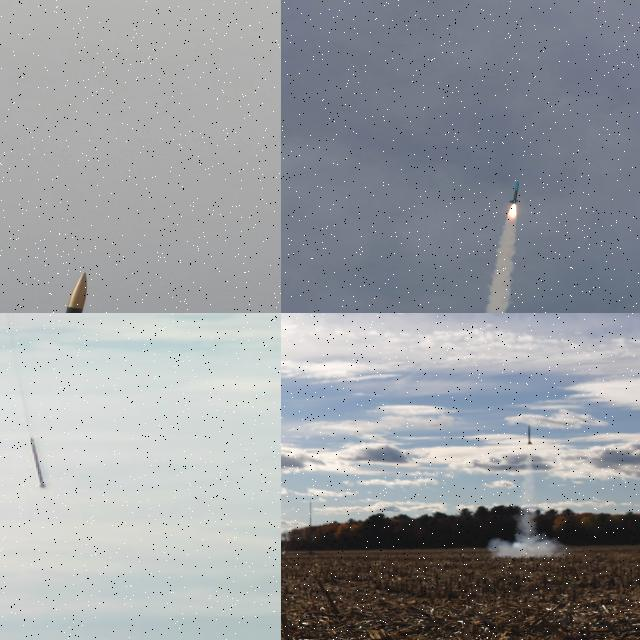Rocket: (23, 269, 89, 313), (29, 437, 46, 488), (508, 182, 520, 204), (526, 425, 533, 445)
